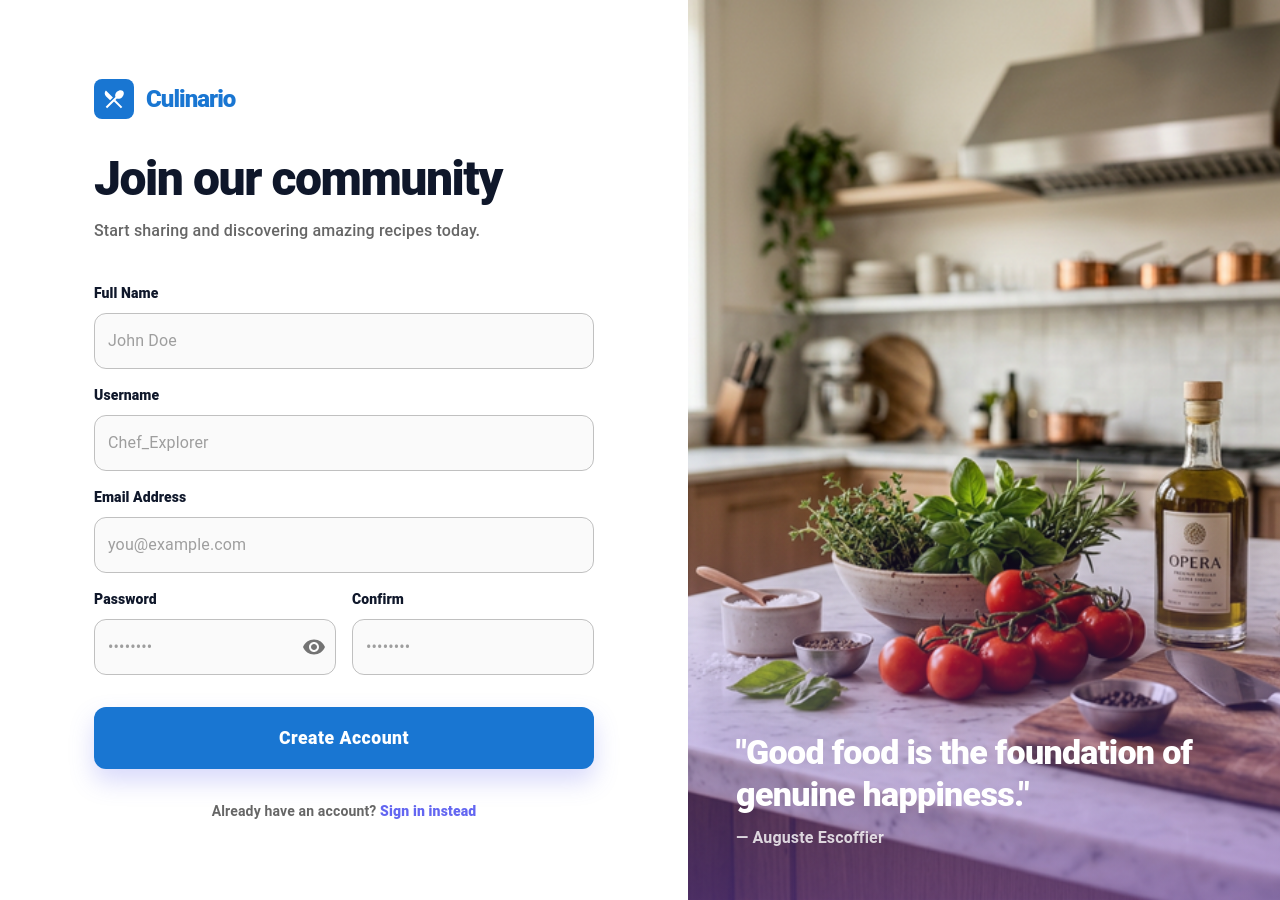
Test: RegisterPage › shows error when passwords do not match
Type "testuser" into the field with placeholder "Chef_Explorer" at coordinates (344, 443), box x1=94 y1=415 x2=594 y2=471
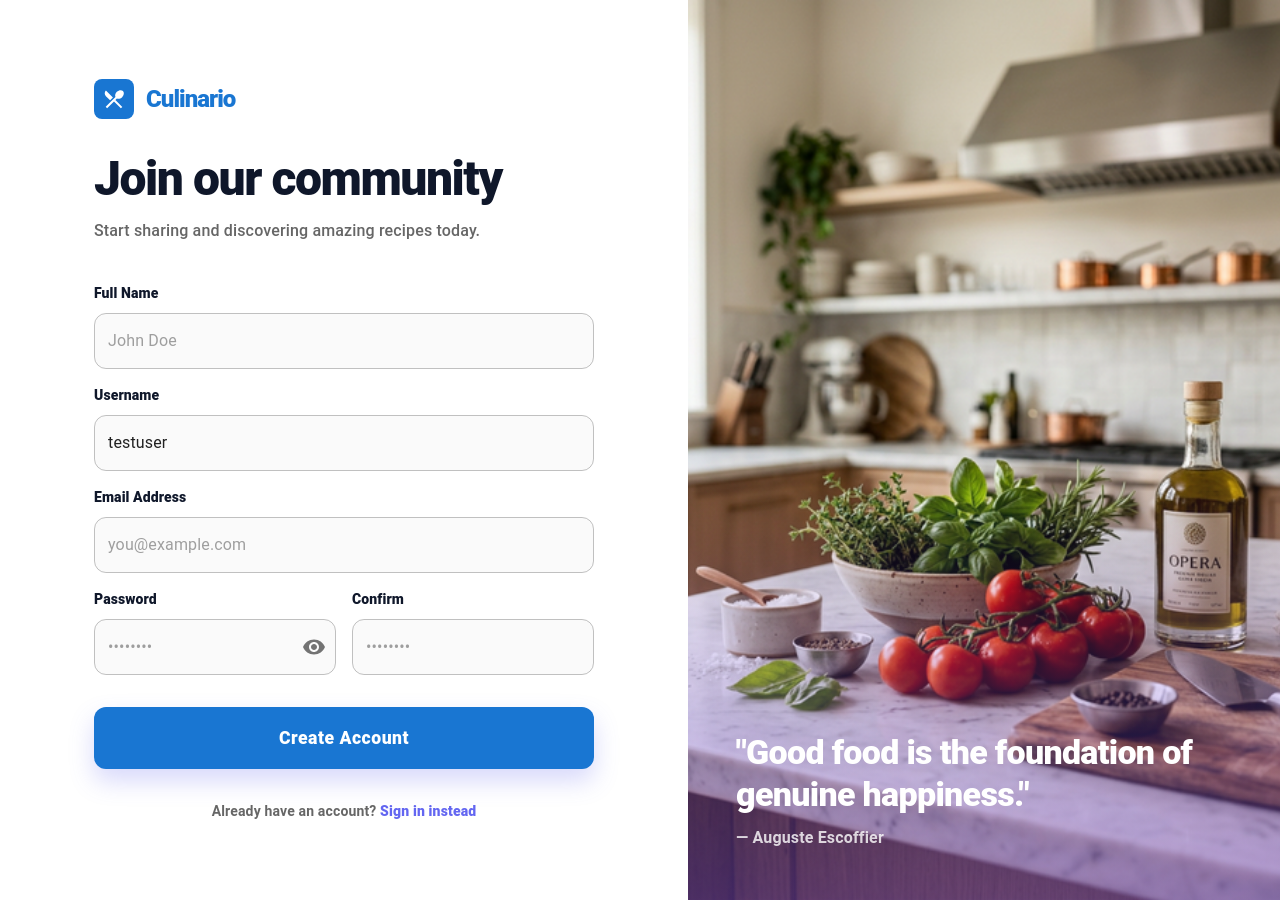
Type "test@example.com" into the field with placeholder "you@example.com" at coordinates (344, 545), box x1=94 y1=517 x2=594 y2=573
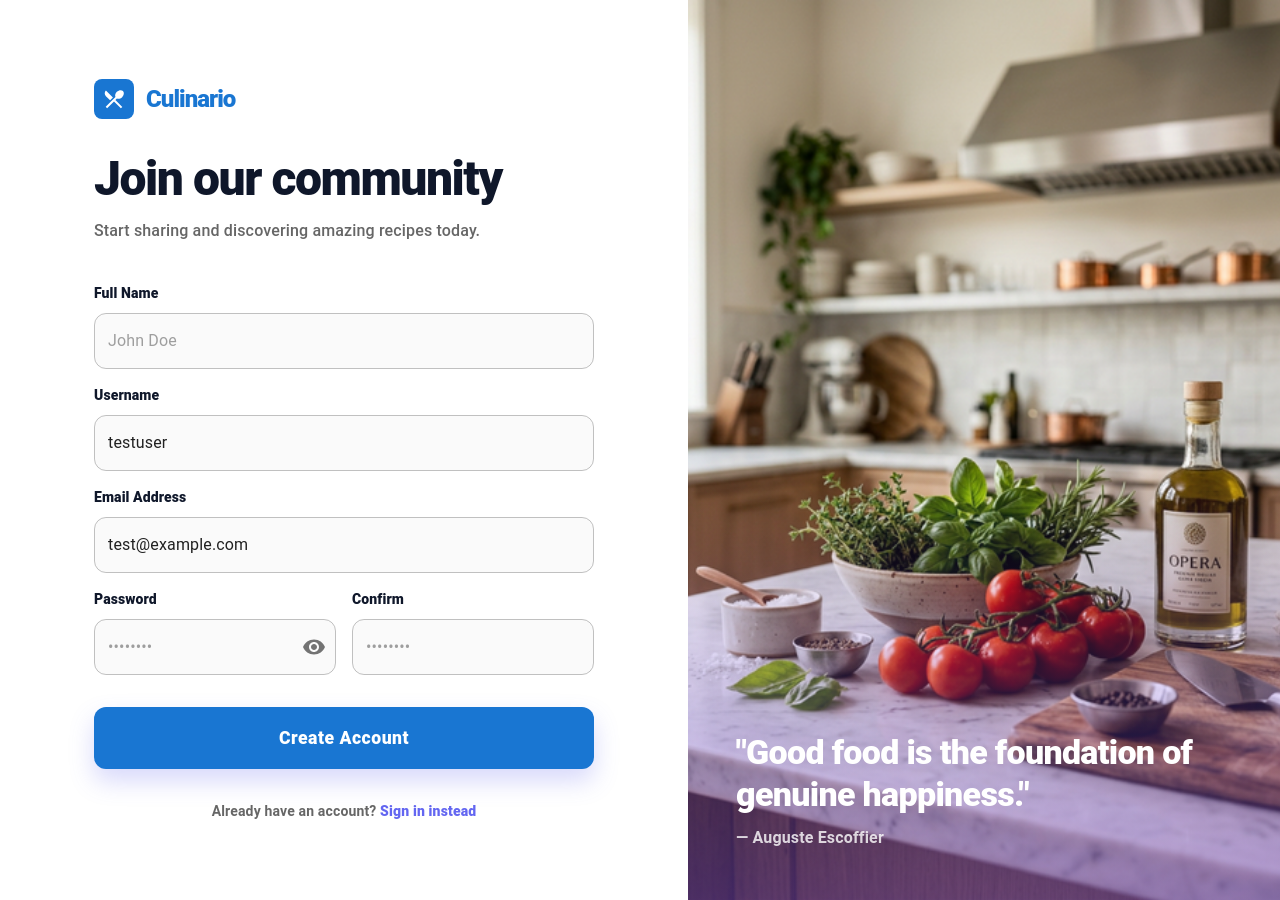
Type "Password@123" into the password field with placeholder "••••••••" below "Password" at coordinates (190, 646), box x1=94 y1=618 x2=286 y2=674
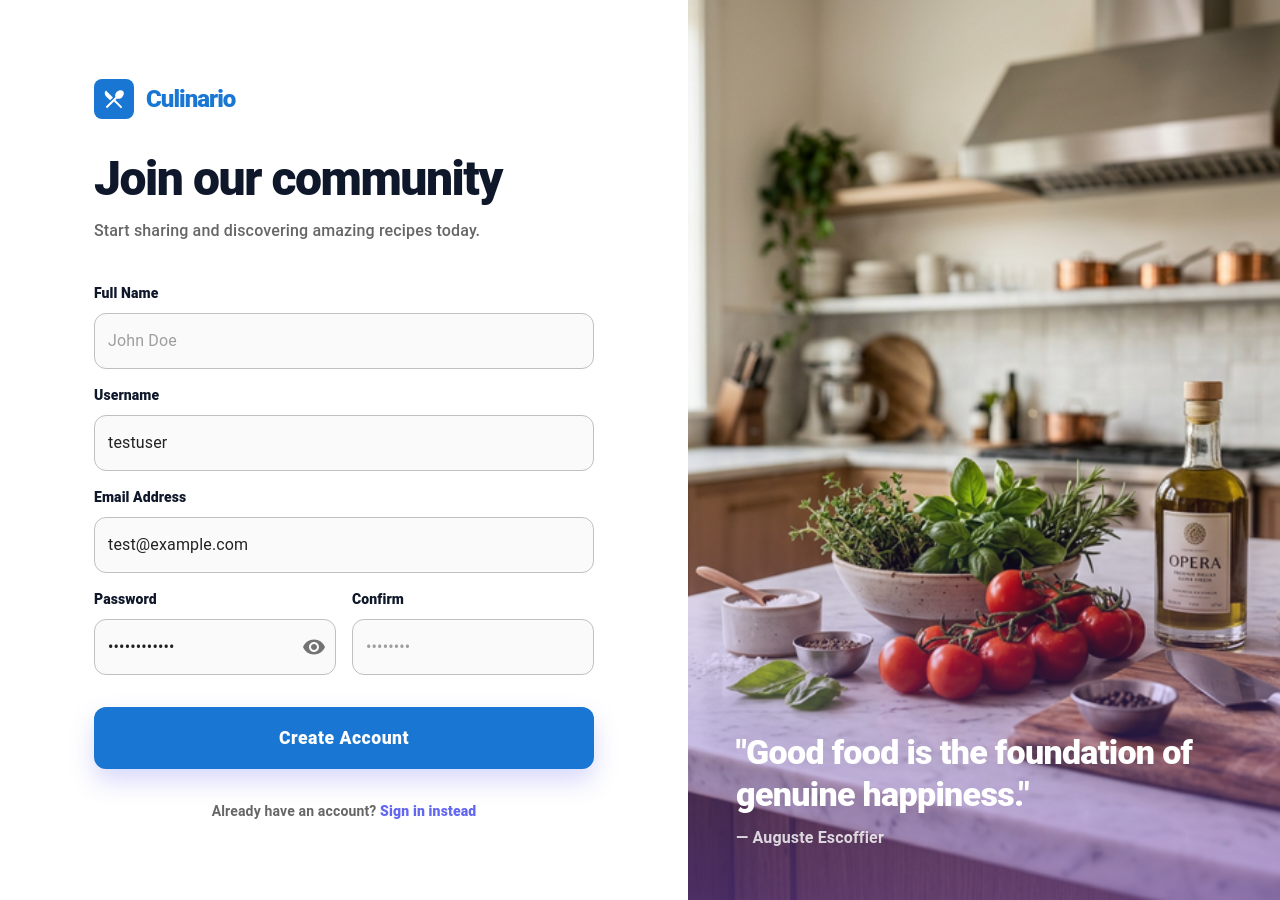
Type "Different@123" into the password field with placeholder "••••••••" at coordinates (473, 646), box x1=352 y1=618 x2=594 y2=674
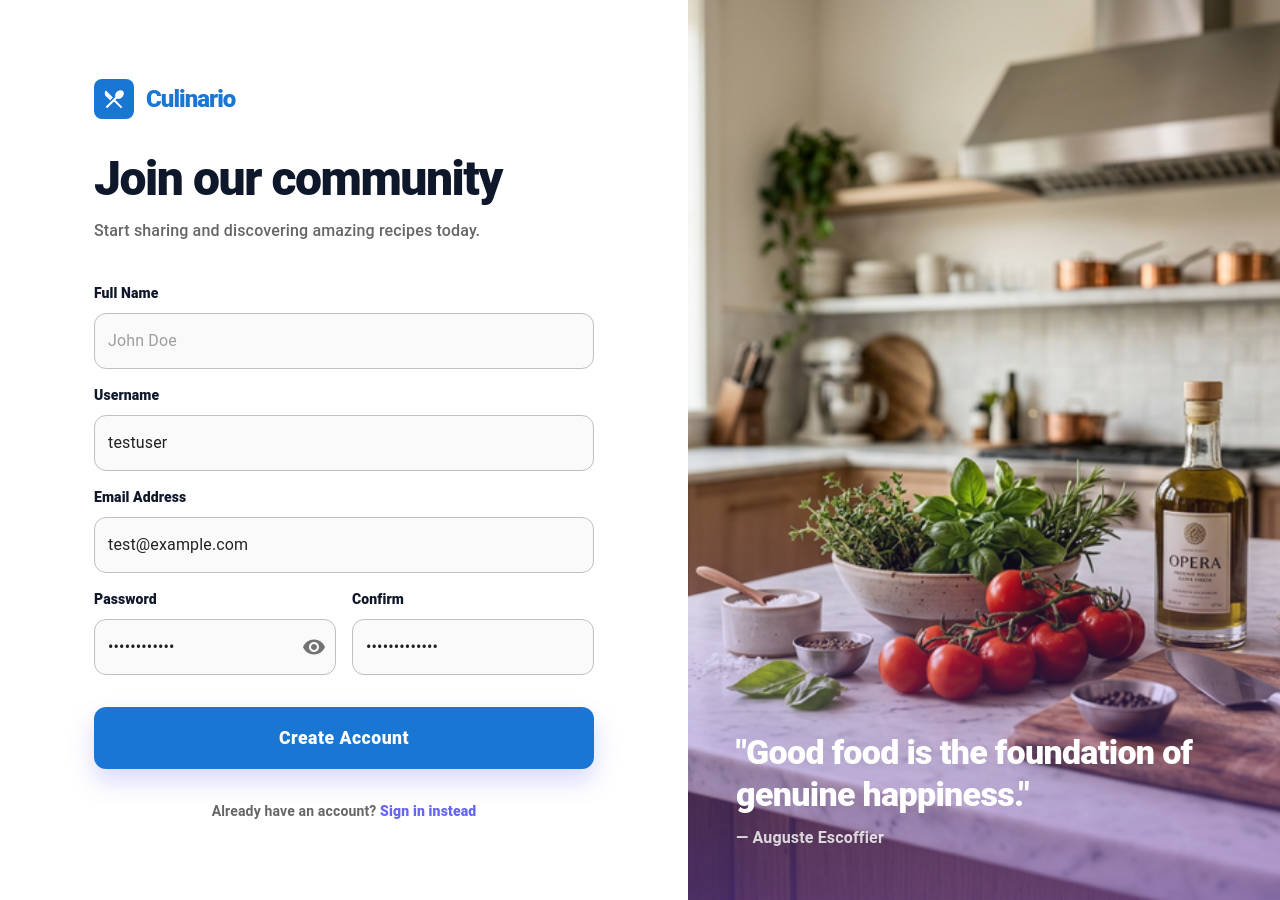
Click the button "Create Account" at coordinates (344, 738), box x1=94 y1=706 x2=594 y2=769
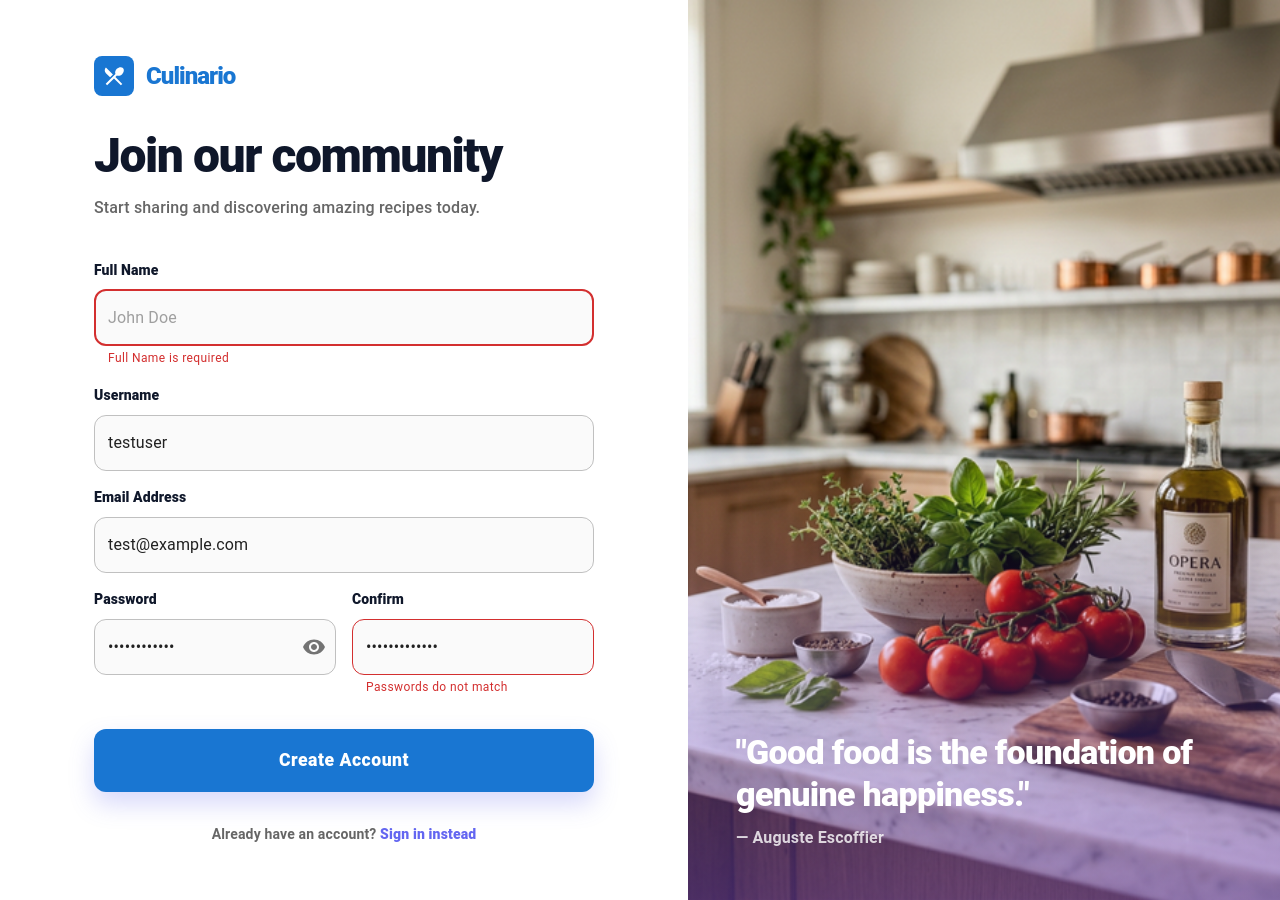
Expected: the text "Passwords do not match" is shown, x1=366 y1=680 x2=508 y2=694
